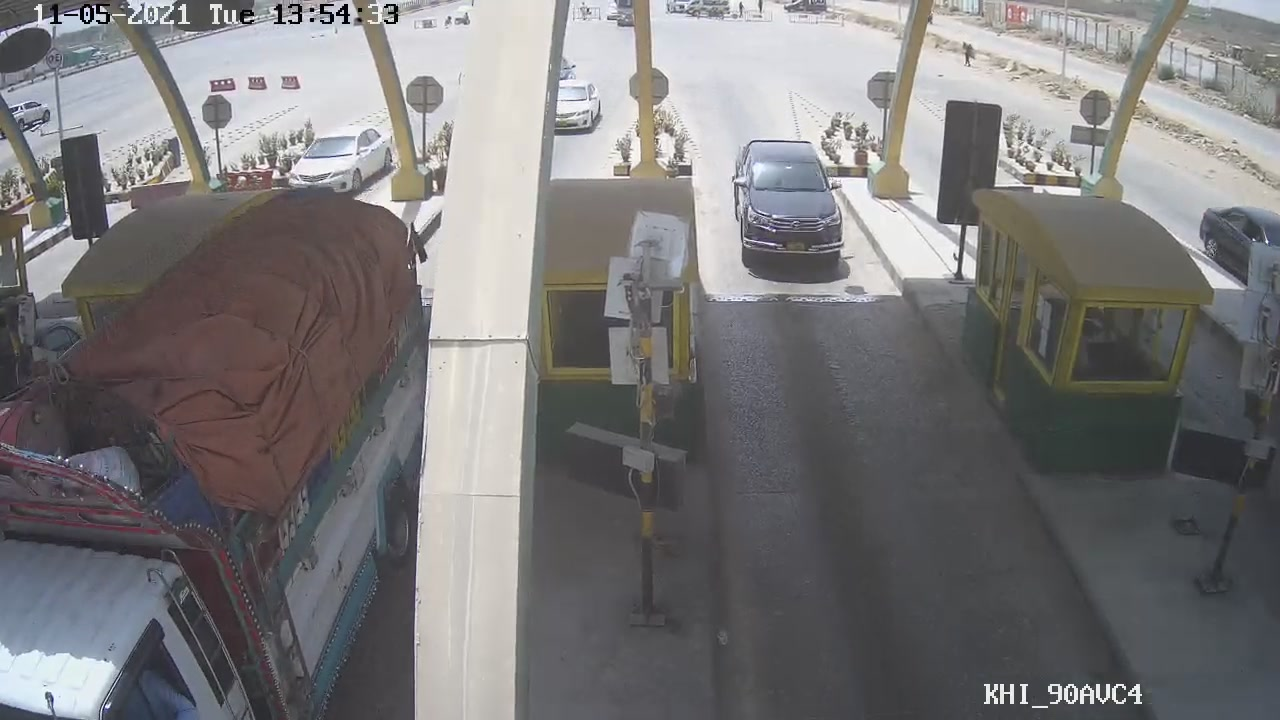F1: (728, 126, 851, 272)
